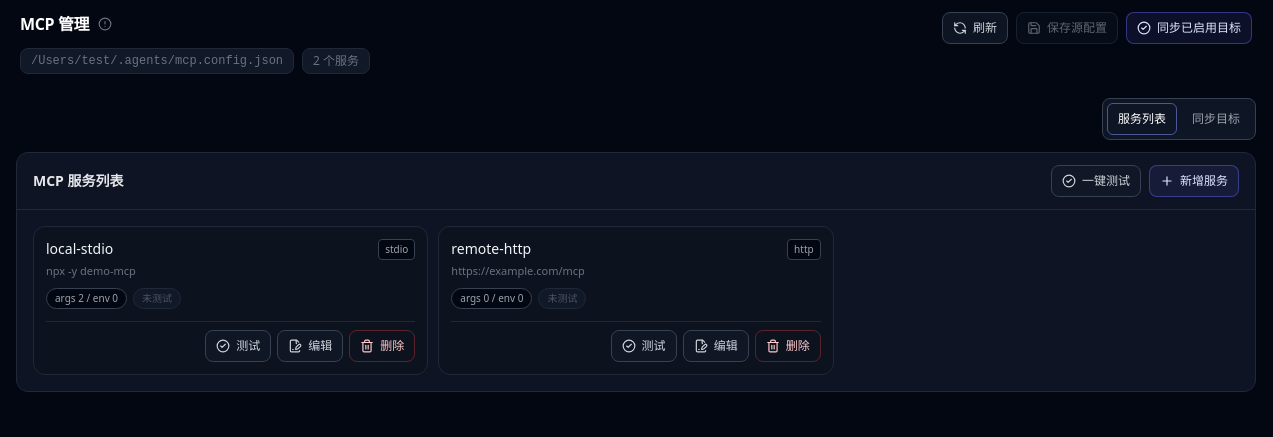
Test: McpPage › distinguishes stdio spawn checks from http initialize handshakes in the service list
What coordinates should you click on to do the following:
click the button "一键测试"
I would click on:
 (1096, 181)
Its box is [1051, 165, 1141, 197].
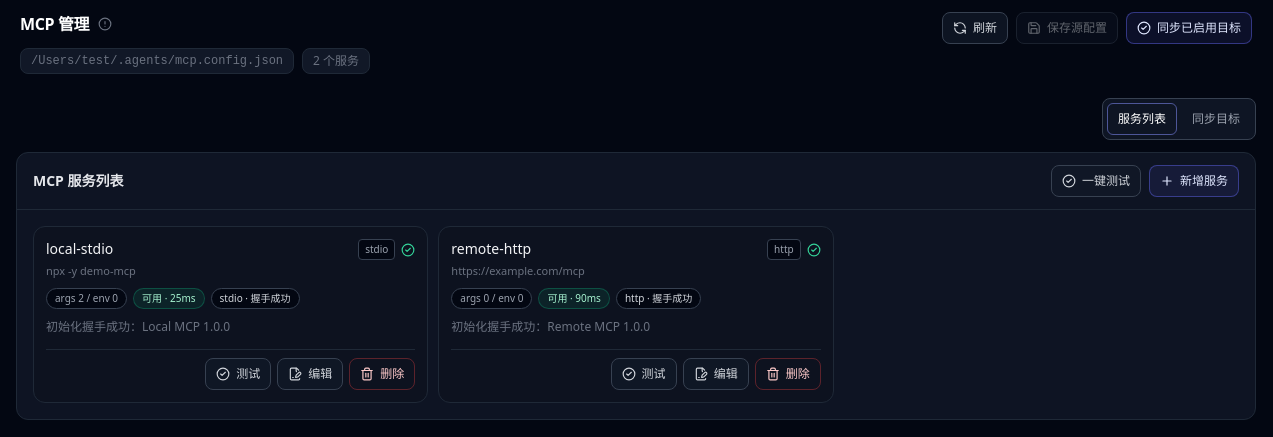
Result: the text "stdio · 握手成功" is shown at [210, 288, 300, 308]
Result: the text "http · 握手成功" is shown at [616, 288, 701, 308]
